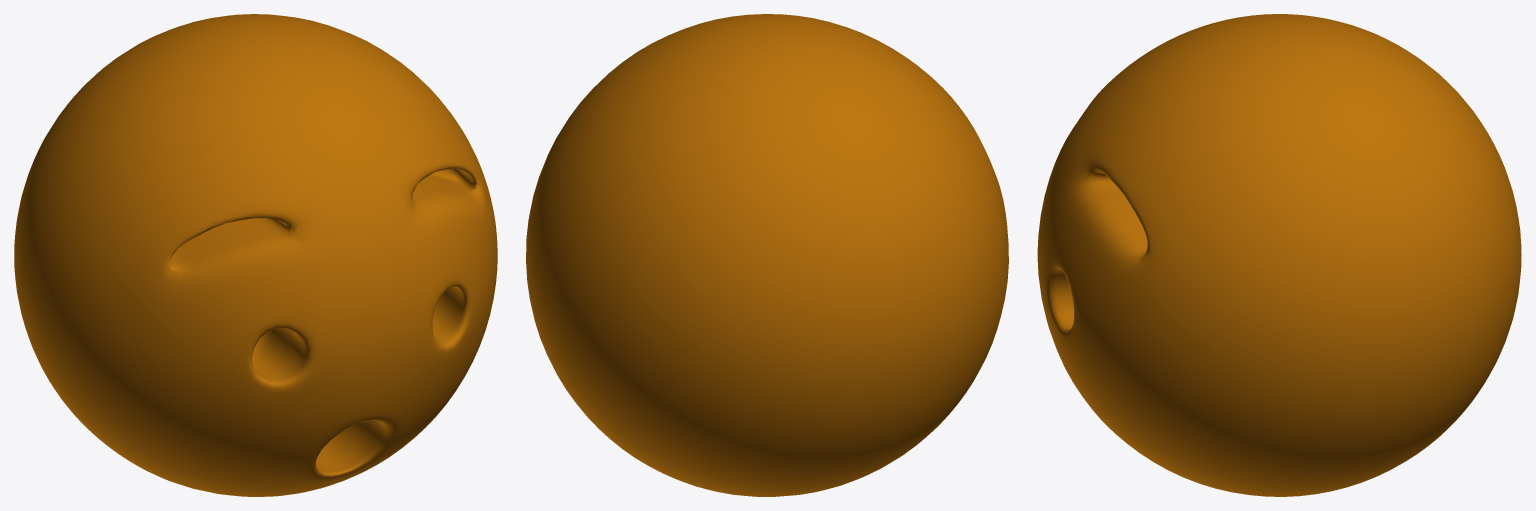
The model's file is no_mouth.FBX.
3 renders of one model, left to right at view 1: azimuth 30°, elevation 25°; view 2: azimuth 150°, elevation 25°; view 3: azimuth 270°, elevation 25°, orthographic.
Visible parts, largest first — view 1: Group18920; view 2: Group18920; view 3: Group18920.
Boxes of the visible parts, x1=… form: Group18920: x1=14, y1=14, x2=497, y2=496; Group18920: x1=526, y1=14, x2=1008, y2=496; Group18920: x1=1037, y1=14, x2=1521, y2=496.
Bounding box in the file's own units: 20.26 × 20.25 × 20.3.
